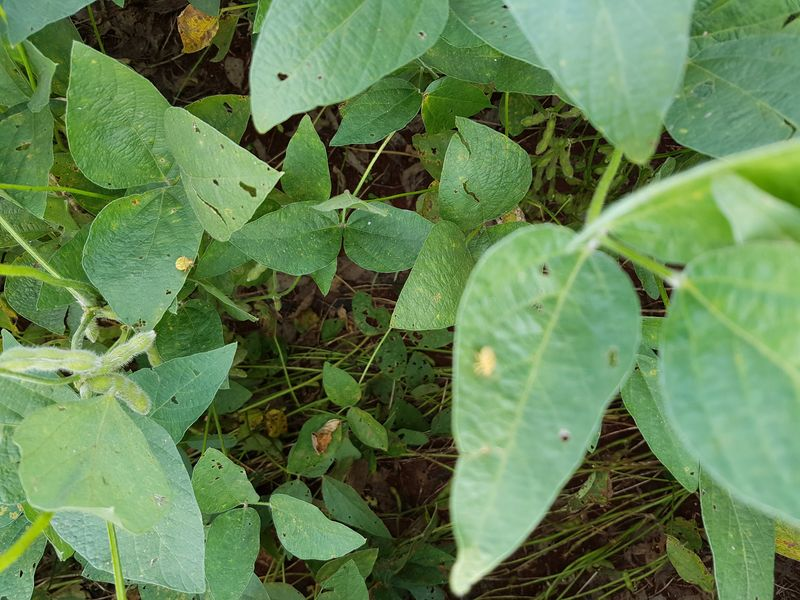Euschistus_heros_ninfa: (171, 251, 198, 276)
